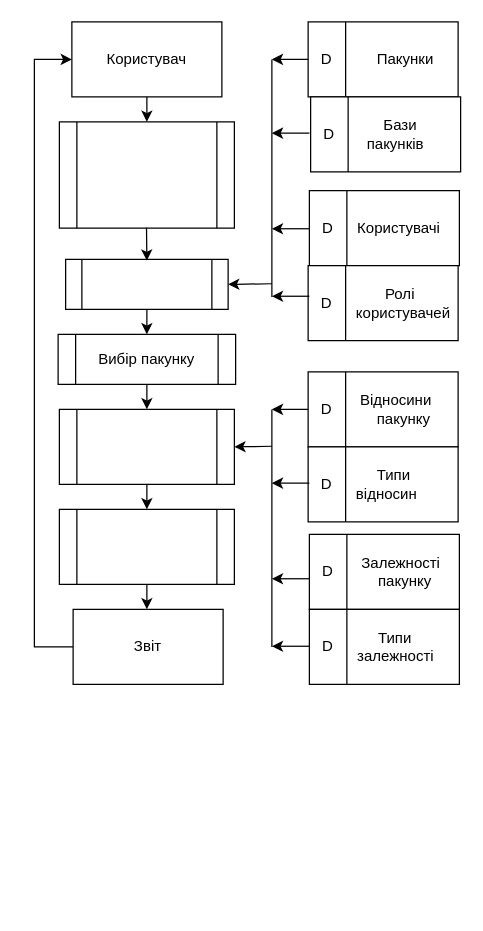
The diagram is 483 pixels wide and 931 high, and some of its shapes have lost their labels. Here are the shapes that lost their labels. From the top down, the centre of each, then its label:
At pixel 146 174: "Завдання параметрів фільтрації та сортування результатів".
At pixel 146 283: "Пошук пакунку".
At pixel 146 446: "Перегляд інформацї про пакунок".
At pixel 146 546: "Формування звіту та завантаження".
